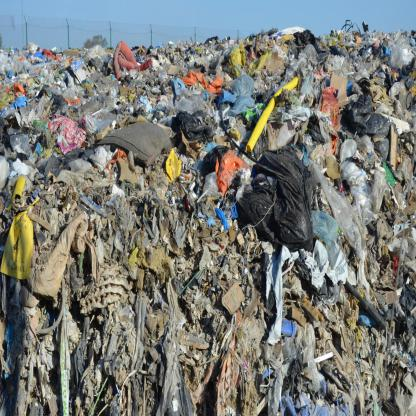Garbage: (1, 42, 416, 416)
